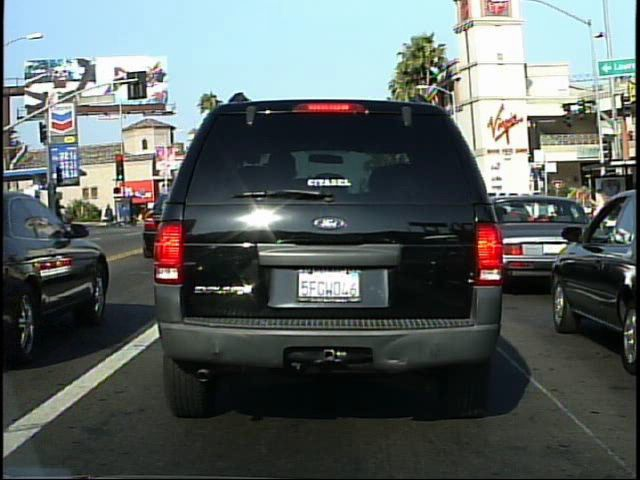person: (588, 184, 609, 243), (101, 199, 117, 233)
